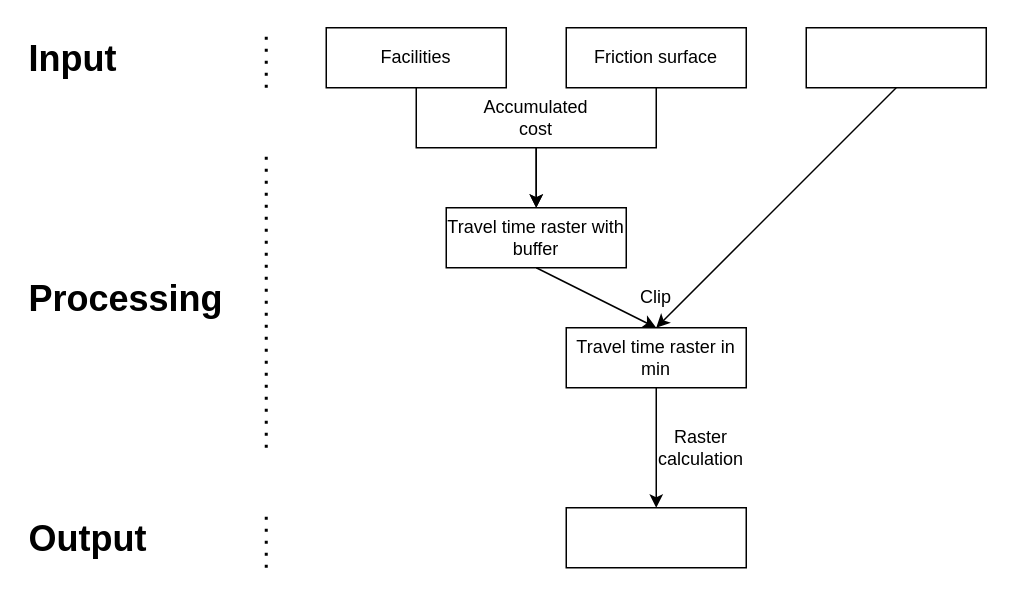
Image size: 1013x597. Some labels were removed from this diagram. Each missing label, with the centre of its shape:
"Study area without buffer" goes at (895,57).
"Travel time raster in h" goes at (655,537).
